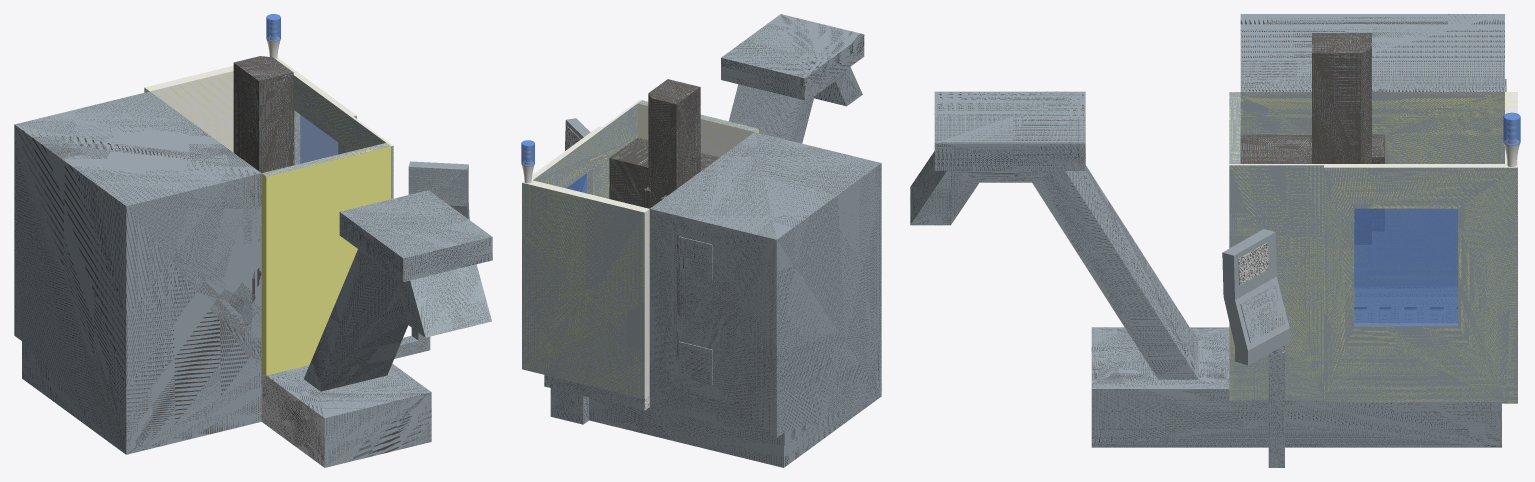
File: CNC.obj
3 renders of one model, left to right at view 1: azimuth 30°, elevation 25°; view 2: azimuth 150°, elevation 25°; view 3: azimuth 270°, elevation 25°, orthographic. The views are drawn at different scales.
Parts seen in each view (by area): view 1: Mesh1 Model; view 2: Mesh1 Model; view 3: Mesh1 Model.
Boxes of the visible parts, x1,y1,x2,y2 form: Mesh1 Model: (14, 14, 492, 467); Mesh1 Model: (521, 14, 881, 467); Mesh1 Model: (910, 14, 1520, 467).
Bounding box in the file's own units: 2923 × 2510 × 3762.
19 materials, 4 textured.
